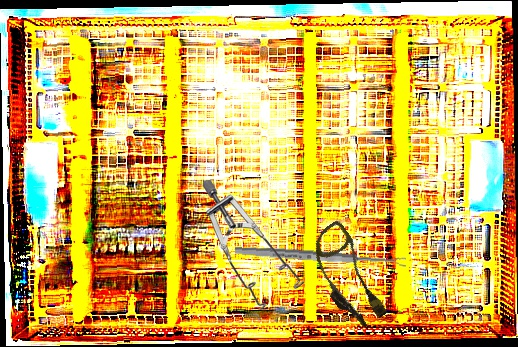Cannula: (296, 218, 399, 335)
Speculum: (203, 180, 304, 309)
Surgical Spoon: (234, 245, 407, 268)
